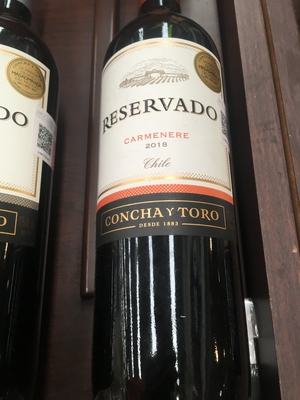reservado carmenere: (91, 7, 243, 365)
